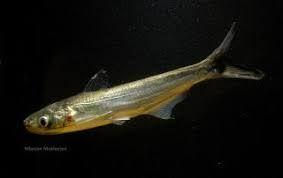Tenpounder: (25, 23, 267, 135)
